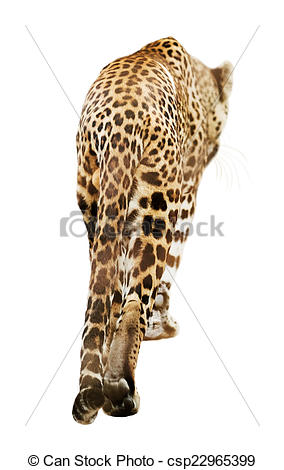leopard: (70, 36, 238, 420)
